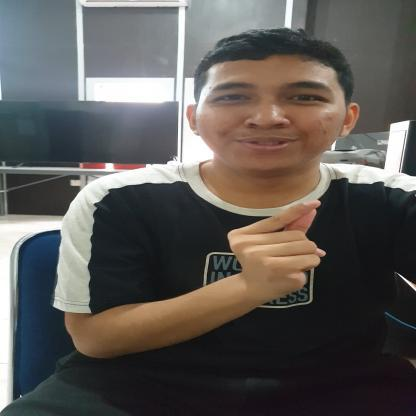R: (225, 198, 331, 304)
